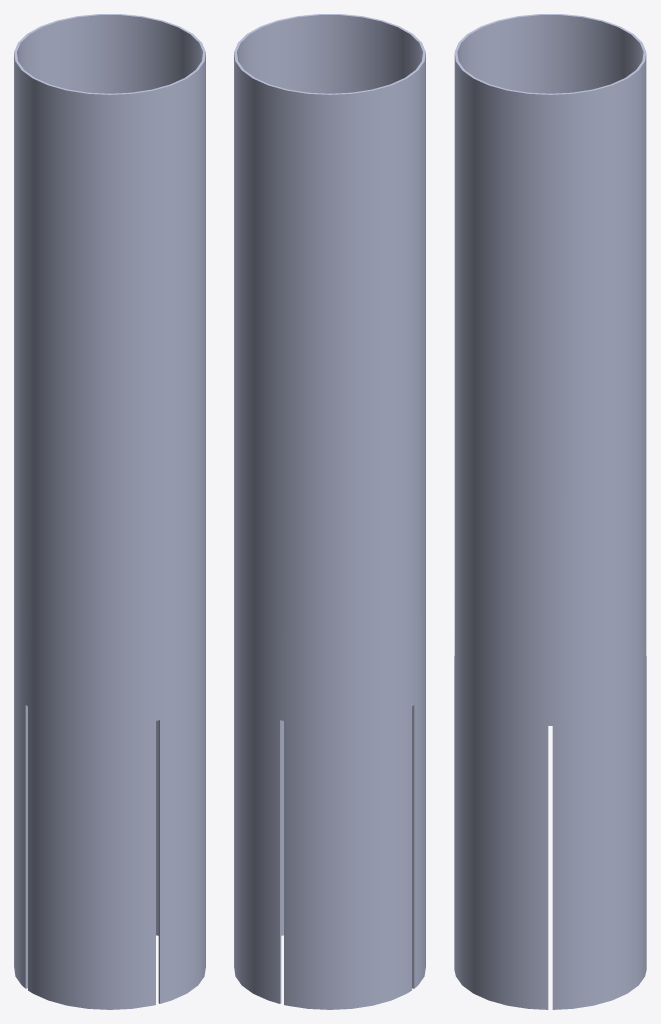
File: subscale_tail.obj
3 renders of one model, left to right at view 1: azimuth 30°, elevation 25°; view 2: azimuth 150°, elevation 25°; view 3: azimuth 270°, elevation 25°, orthographic.
Visible parts, largest first — view 1: mesh_1_subsca; view 2: mesh_1_subsca; view 3: mesh_1_subsca.
Boxes of the visible parts, x1,y1,x2,y2 form: mesh_1_subsca: (14,14,205,1009); mesh_1_subsca: (234,14,425,1009); mesh_1_subsca: (454,14,646,1009).
Size of the model in its own units: 0.1401 by 0.7366 by 0.1401.
